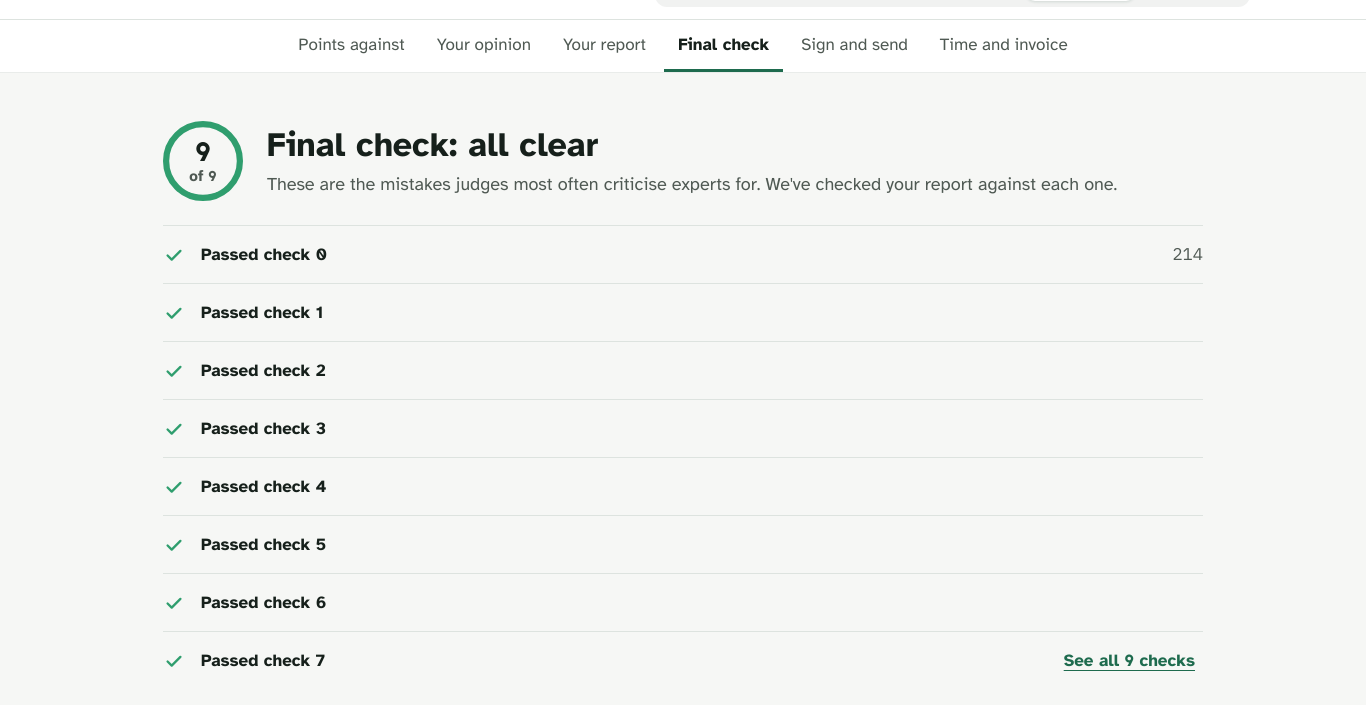
passed checks are status rows with their counts, and the rest sit behind See all N checks
Expected: the text "214" is shown, [1172,242,1203,267]
Expected: the text "Passed check 8" is not shown
Click the button "See all 9 checks" at [1129, 660], box [1056,634,1203,686]
(page scrolled)
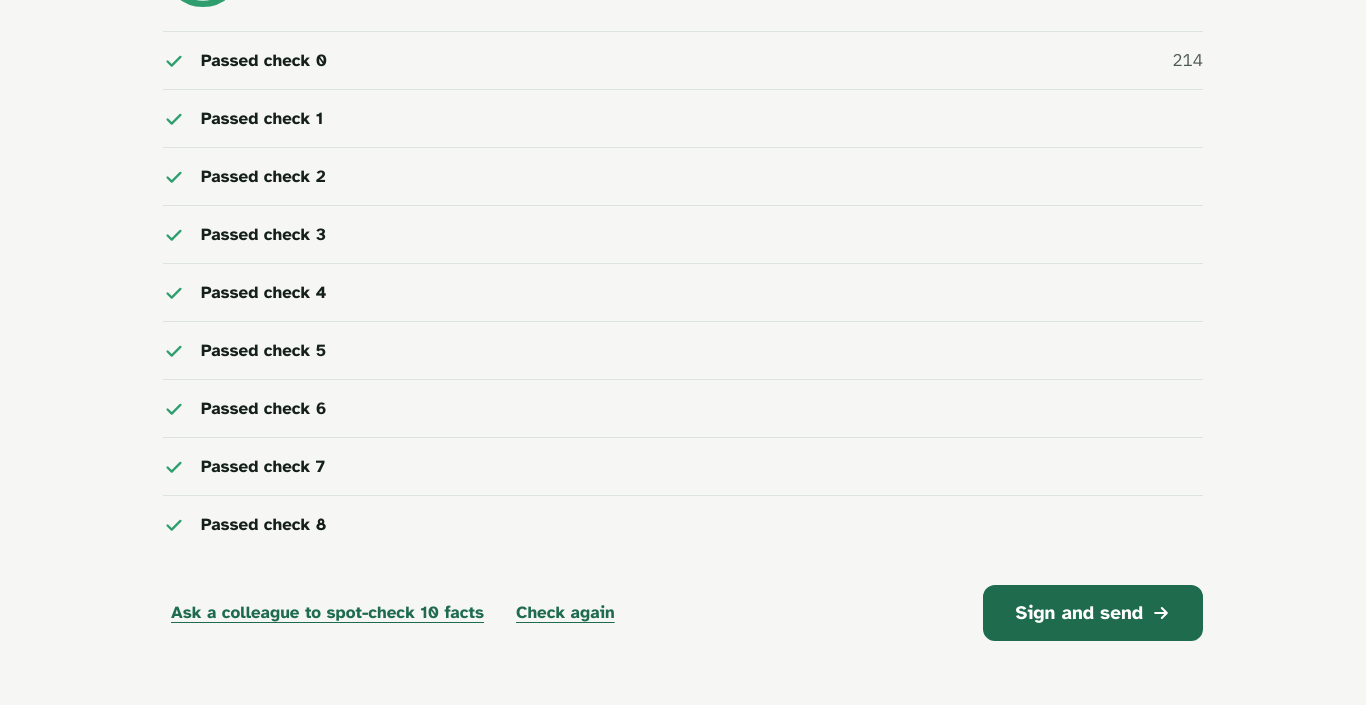
Now the text "Passed check 8" is shown, box [201,514,326,535]
Now the button "See all" is gone
